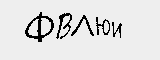В: (56, 12, 73, 40)
И: (110, 21, 122, 40)
Л: (69, 14, 95, 39)
Ф: (24, 12, 54, 42)
Ю: (93, 17, 111, 38)
